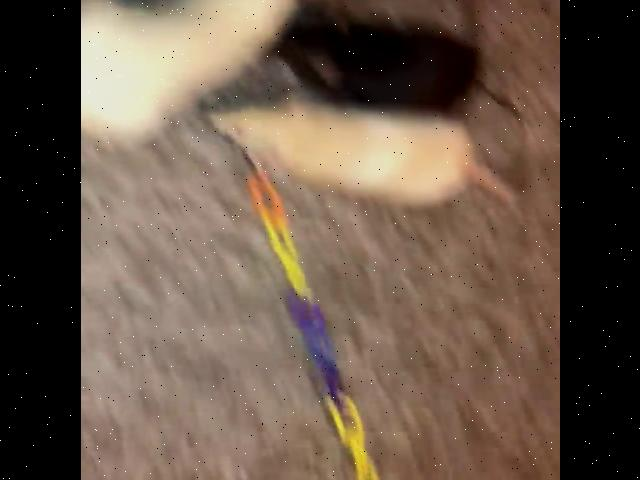Tikus: (207, 94, 514, 210), (278, 15, 532, 112)
